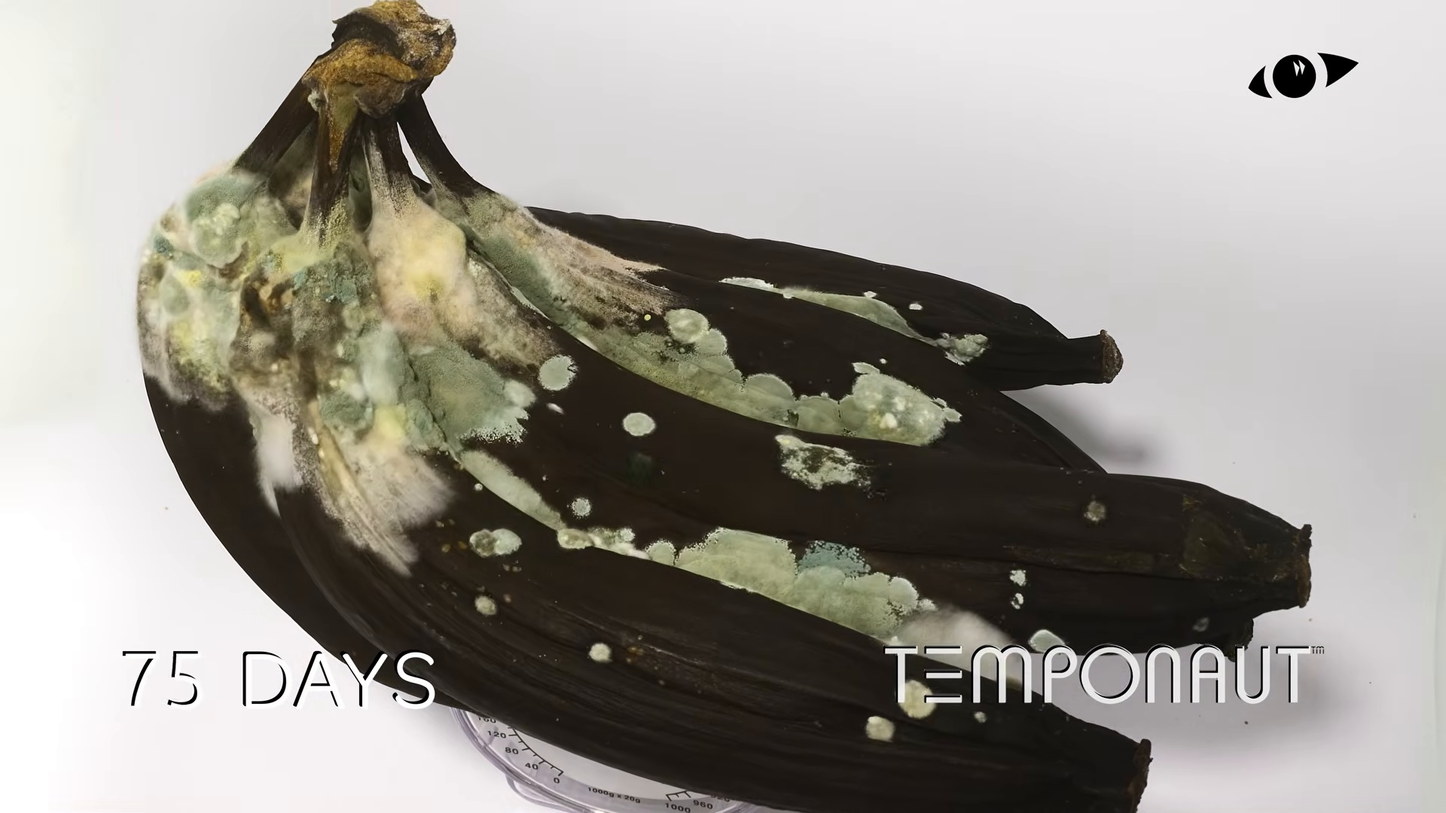banana_rotten: (133, 3, 1320, 806)
